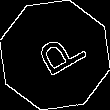P_SW: (24, 26, 86, 84)
